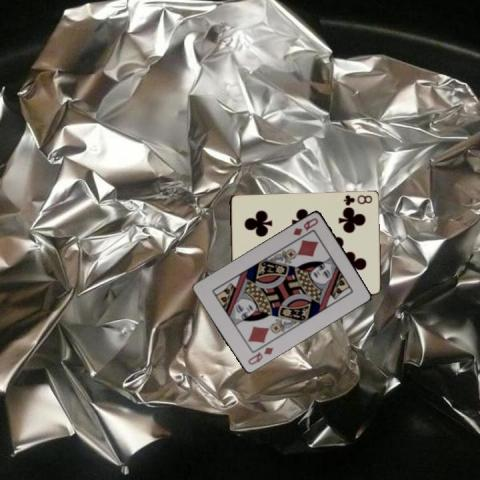8c: (341, 192, 373, 206)
Qd: (290, 214, 320, 236), (244, 344, 274, 366)
